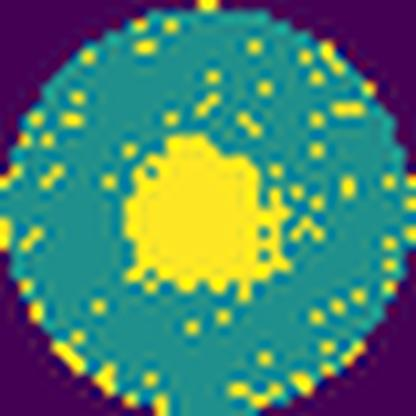Center: (122, 136, 293, 289)
